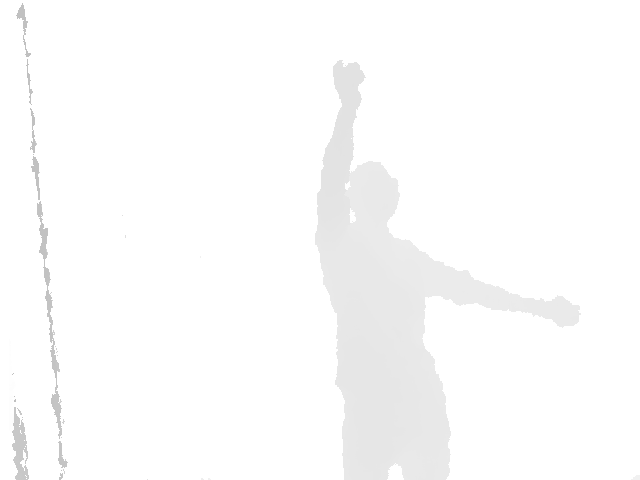hand: (331, 60, 367, 111)
hand_down: (546, 295, 581, 329)
head: (347, 160, 400, 225)
person: (314, 60, 582, 480)
